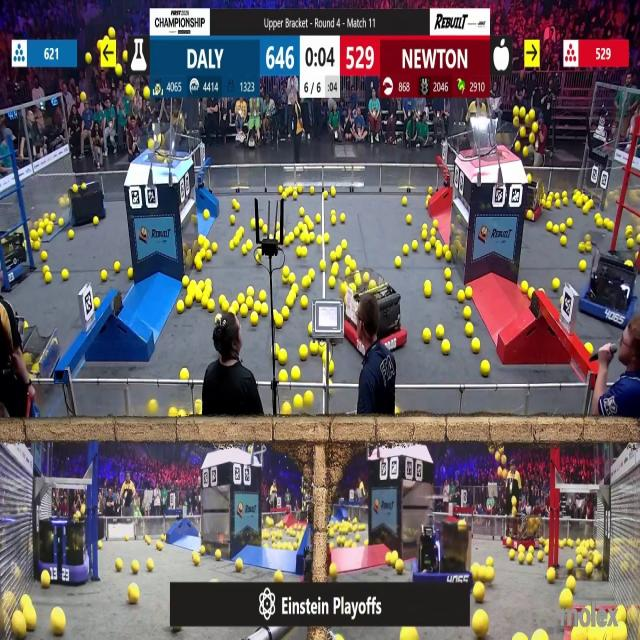ball_airborne: (497, 135, 506, 145), (528, 109, 536, 120), (115, 65, 122, 77), (127, 86, 134, 98), (121, 52, 128, 64), (514, 106, 521, 117), (144, 88, 150, 100), (516, 142, 523, 151), (520, 128, 526, 138), (523, 146, 529, 156), (148, 139, 154, 149), (520, 107, 526, 117), (497, 466, 503, 476), (514, 116, 520, 126), (501, 453, 507, 462), (529, 134, 534, 144), (513, 496, 518, 506), (532, 121, 537, 131), (495, 453, 500, 462), (80, 93, 85, 102), (516, 471, 521, 478)
ball_ground: (53, 612, 66, 637), (27, 612, 37, 632), (130, 586, 140, 605), (473, 584, 483, 602), (561, 592, 572, 608), (40, 570, 50, 587), (566, 575, 576, 590), (292, 394, 302, 408), (482, 360, 491, 375), (424, 281, 432, 297), (282, 404, 291, 418), (305, 392, 314, 406), (465, 322, 473, 337), (148, 399, 156, 414), (534, 630, 546, 640), (471, 339, 479, 353), (443, 340, 451, 354), (329, 564, 337, 578), (278, 350, 286, 364), (132, 560, 140, 574), (298, 346, 306, 360), (546, 568, 554, 582), (279, 368, 288, 380), (291, 366, 299, 379), (250, 313, 258, 326), (438, 325, 446, 338), (386, 553, 394, 566), (177, 302, 185, 314), (463, 308, 471, 320), (330, 265, 338, 277), (180, 367, 188, 379), (282, 308, 290, 320), (276, 569, 284, 581), (286, 295, 294, 307), (310, 342, 318, 354), (486, 568, 494, 580), (527, 210, 535, 222), (237, 559, 244, 572), (522, 281, 529, 294), (423, 328, 430, 341), (395, 561, 402, 574), (192, 553, 199, 566), (302, 295, 309, 308), (196, 290, 203, 303), (587, 563, 594, 576), (354, 273, 361, 286), (471, 564, 478, 577), (275, 316, 283, 327), (303, 277, 311, 288), (566, 560, 574, 571), (518, 553, 526, 564), (465, 287, 472, 299), (262, 305, 269, 317), (241, 306, 248, 318), (170, 409, 178, 419), (246, 296, 254, 306), (252, 303, 260, 313), (301, 247, 309, 257), (571, 630, 579, 640), (318, 344, 326, 354), (195, 259, 201, 272), (327, 361, 333, 374), (62, 270, 69, 281), (458, 290, 465, 301), (259, 290, 266, 301), (208, 301, 215, 312), (185, 295, 192, 306), (515, 633, 526, 640), (309, 233, 316, 244), (587, 344, 594, 355), (290, 284, 297, 295), (203, 238, 210, 249), (554, 279, 560, 291), (147, 560, 153, 572), (116, 559, 122, 571), (102, 270, 108, 282), (298, 234, 306, 243), (337, 248, 343, 260), (328, 278, 335, 288), (435, 248, 442, 258), (445, 270, 452, 280), (221, 303, 228, 313), (44, 274, 51, 284), (34, 241, 41, 251), (233, 303, 240, 313), (606, 220, 613, 230), (250, 218, 257, 228), (526, 554, 533, 564), (504, 536, 511, 546), (596, 217, 603, 227), (155, 540, 162, 550), (446, 252, 453, 262), (554, 223, 561, 233), (341, 284, 348, 294), (234, 238, 241, 248), (395, 256, 401, 267), (182, 276, 188, 287), (447, 283, 453, 294), (203, 293, 209, 304), (84, 54, 90, 65), (93, 216, 100, 225), (219, 294, 226, 303), (559, 223, 566, 232), (507, 551, 514, 560), (205, 251, 212, 260), (329, 251, 336, 260), (579, 262, 585, 272), (114, 264, 120, 274), (402, 245, 408, 255), (628, 240, 634, 250), (215, 551, 221, 561), (320, 262, 326, 272), (212, 242, 218, 252), (578, 243, 584, 253), (424, 243, 430, 253), (283, 268, 289, 278), (538, 552, 544, 562), (41, 251, 47, 261), (288, 274, 294, 284), (239, 293, 245, 303), (487, 557, 493, 567), (94, 297, 100, 307), (350, 263, 356, 273), (310, 270, 316, 280), (422, 232, 428, 242), (257, 218, 263, 228), (294, 228, 300, 238), (189, 279, 195, 289), (627, 225, 634, 233), (296, 220, 303, 228), (129, 269, 134, 280), (309, 323, 314, 334), (324, 234, 329, 245), (316, 214, 322, 223), (341, 213, 347, 222), (407, 214, 413, 223), (234, 202, 240, 211), (247, 241, 253, 250), (556, 200, 562, 209), (309, 221, 315, 230), (231, 215, 237, 224), (199, 280, 205, 289), (276, 233, 282, 242), (575, 556, 581, 565), (561, 237, 566, 247), (413, 241, 418, 251), (205, 210, 210, 220), (296, 247, 301, 257), (228, 238, 233, 248), (264, 224, 269, 234), (179, 411, 186, 418), (68, 232, 74, 240), (247, 288, 253, 296), (42, 266, 48, 274), (242, 247, 248, 255), (546, 222, 552, 230), (330, 216, 336, 224), (298, 208, 304, 216), (284, 238, 290, 246), (342, 241, 348, 249), (345, 256, 351, 264), (546, 201, 552, 209), (316, 237, 322, 245), (276, 222, 282, 230), (422, 222, 428, 230), (282, 276, 288, 284), (269, 234, 275, 242), (562, 190, 568, 198), (310, 186, 316, 194), (575, 199, 581, 207), (201, 544, 206, 553), (567, 218, 572, 227), (322, 353, 327, 362), (330, 187, 335, 196), (587, 243, 592, 252), (323, 191, 329, 198), (292, 191, 298, 198), (255, 254, 260, 262), (430, 230, 435, 238), (60, 218, 65, 226), (428, 186, 433, 194), (528, 288, 532, 298), (346, 268, 350, 277), (206, 280, 212, 286), (327, 352, 331, 361), (555, 192, 561, 198), (586, 235, 591, 242), (563, 199, 568, 206), (432, 220, 437, 227), (584, 207, 589, 214), (279, 186, 284, 193), (402, 198, 406, 206), (99, 540, 103, 548), (146, 536, 150, 544), (356, 533, 360, 541), (240, 225, 244, 233), (544, 545, 548, 553), (305, 216, 309, 224), (50, 213, 54, 221), (216, 313, 220, 321), (212, 577, 217, 583), (123, 535, 128, 541), (330, 210, 335, 216), (364, 539, 368, 546), (162, 534, 166, 541), (282, 191, 286, 198), (25, 322, 29, 328), (328, 380, 332, 386), (427, 193, 430, 200), (426, 202, 428, 208)
goal: (465, 120, 522, 160), (126, 130, 188, 161)
robot_blue: (412, 518, 472, 590), (582, 252, 638, 327), (36, 514, 92, 584), (0, 230, 29, 288), (69, 182, 106, 226)
robot_red: (341, 269, 405, 351), (503, 511, 543, 548), (523, 176, 545, 222)
